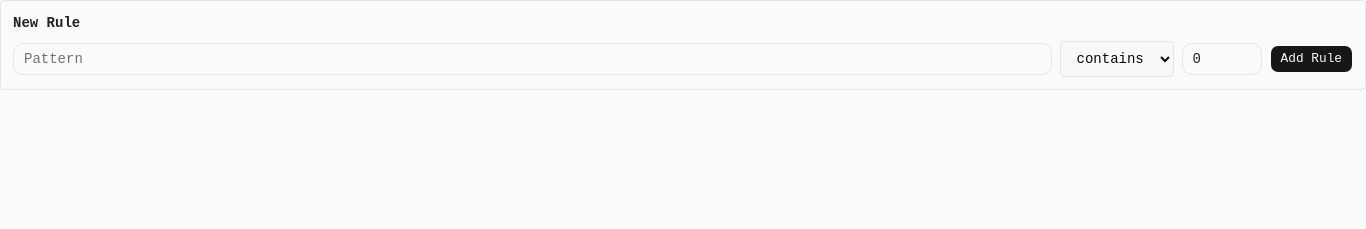
Test: NewRuleForm › renders the regex helper (syntax caption + test field) when regex is selected
This screenshot has width=1366, height=229.
Select "regex" in the dropdown named "New rule match type for Groceries" at [1117, 59], box [1060,41,1174,77]
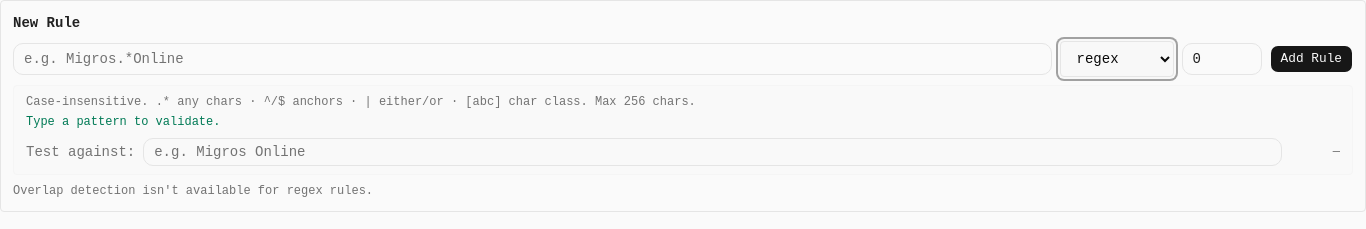
Check: the element with test id "regex-helper-new" is shown, box [13,85,1353,175]
Check: the field labelled "Test against:" is shown, box [143,138,1282,166]
